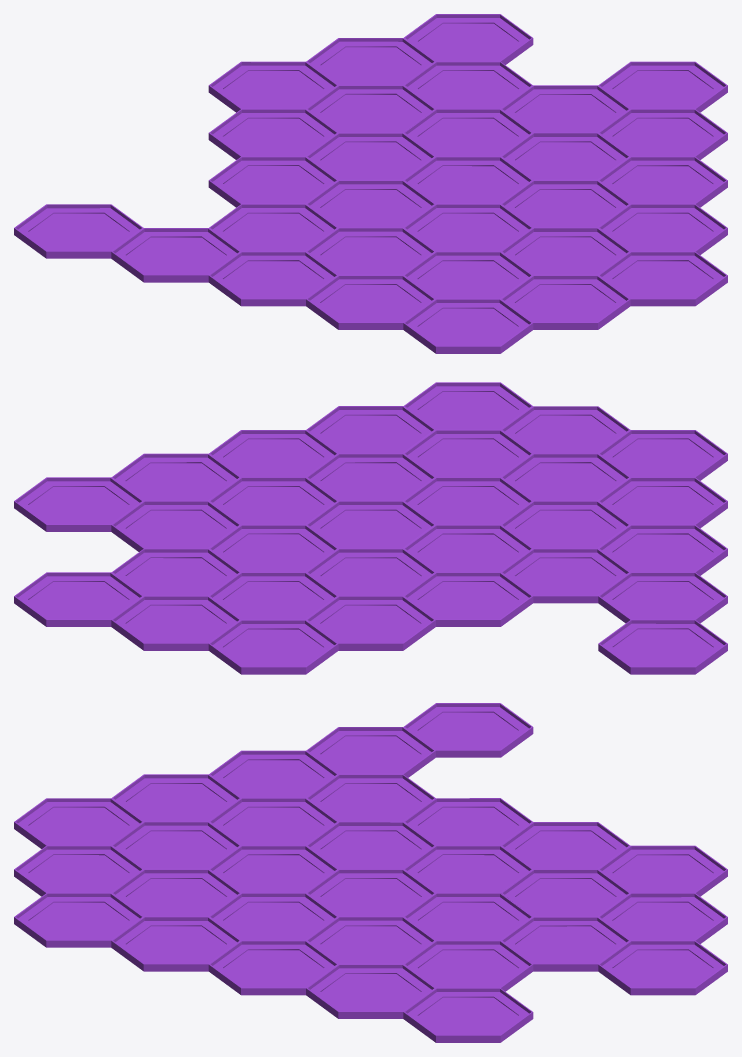
File: HexagonInsertStage3_1.fbx
3 views of the same model, one above another, from view 1: azimuth 30°, elevation 25°; view 2: azimuth 150°, elevation 25°; view 3: azimuth 270°, elevation 25° (orthographic).
Visible parts, largest first — view 1: MoldInsertStage3_1; view 2: MoldInsertStage3_1; view 3: MoldInsertStage3_1.
Part boxes in pixels (x1=…): MoldInsertStage3_1: x1=14, y1=14, x2=727, y2=353; MoldInsertStage3_1: x1=14, y1=382, x2=727, y2=674; MoldInsertStage3_1: x1=14, y1=703, x2=727, y2=1042.
Size of the model in its own units: 1274 by 12.86 by 1156.
